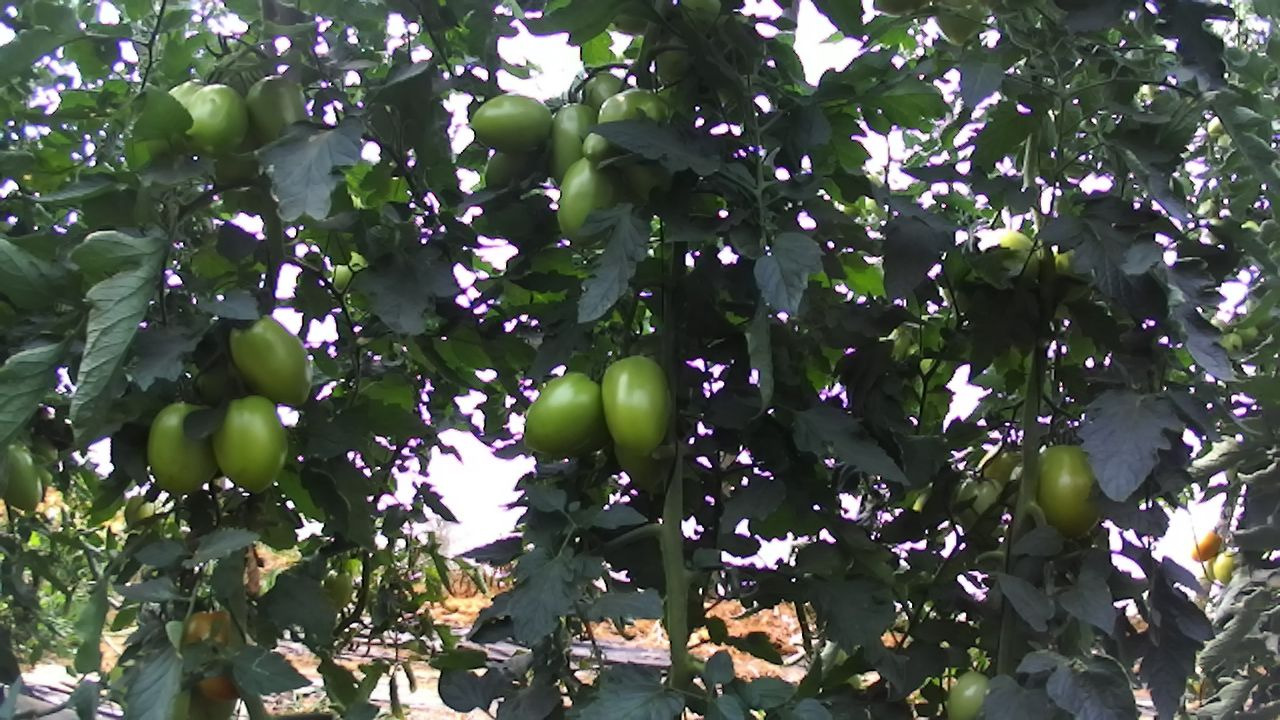tomato: (226, 310, 317, 412), (208, 389, 292, 497), (598, 351, 679, 456), (550, 150, 635, 249), (520, 369, 613, 459), (1032, 442, 1108, 544), (143, 399, 215, 498), (461, 86, 553, 159), (174, 75, 254, 158), (545, 91, 607, 187), (241, 67, 314, 144), (0, 439, 45, 513), (941, 667, 991, 720), (576, 128, 609, 162)
